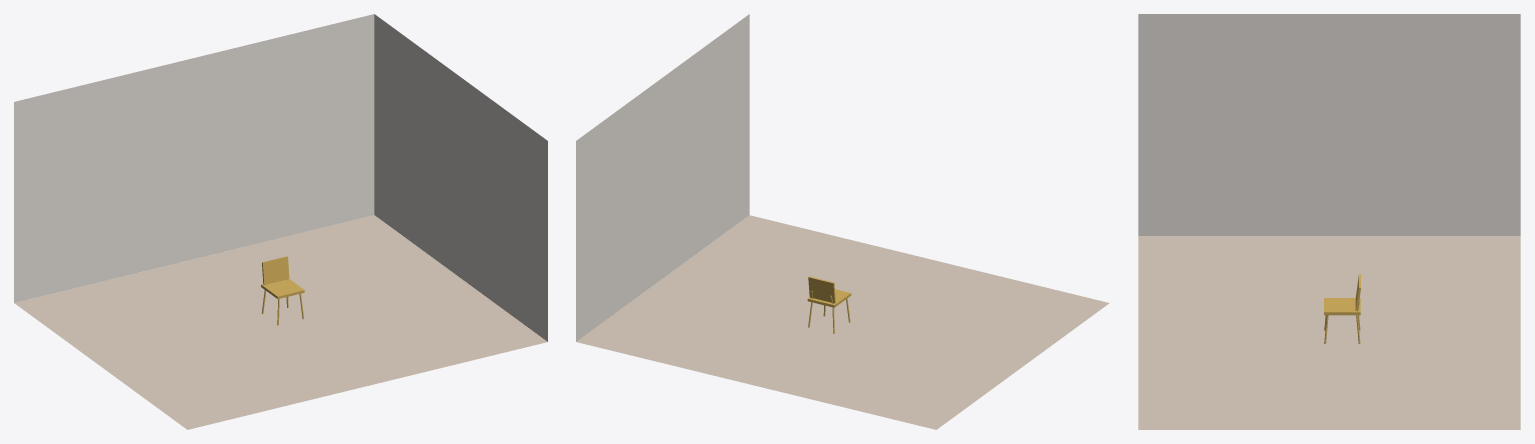
File: silla-moderna.glb
3 views of the same model, side by side, from view 1: azimuth 30°, elevation 25°; view 2: azimuth 150°, elevation 25°; view 3: azimuth 270°, elevation 25° (orthographic). The views are drawn at different scales.
Parts seen in each view (by area): view 1: sala, decoracion; view 2: sala, decoracion; view 3: sala, decoracion.
Boxes of the visible parts, left/top/right/bottom form: sala: left=14, top=14, right=547, bottom=429; decoracion: left=261, top=256, right=304, bottom=325; sala: left=576, top=14, right=1109, bottom=429; decoracion: left=807, top=276, right=851, bottom=333; sala: left=1138, top=14, right=1520, bottom=429; decoracion: left=1324, top=274, right=1360, bottom=343.
Size of the model in its own units: 6 by 3.2 by 5.
